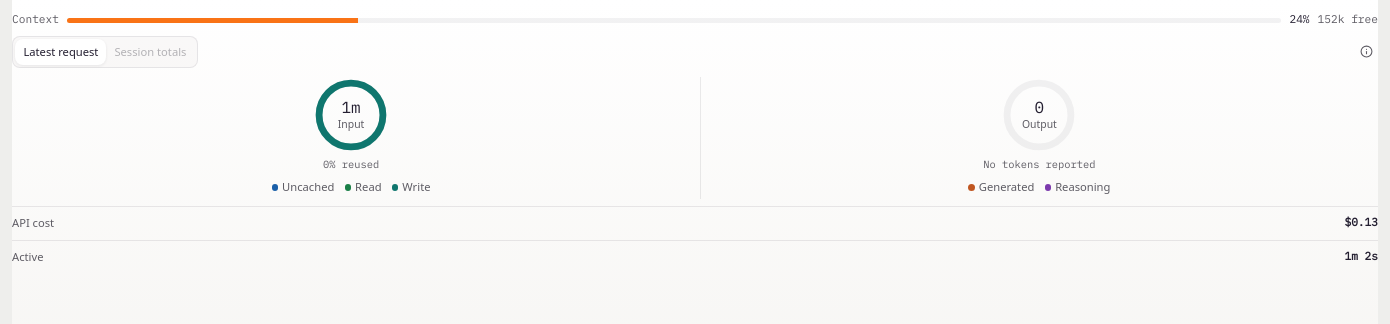
Test: SessionUsageBar › keeps zero and tiny categories reachable without relying on arc hit targets
Expected: the text "No tokens reported" is shown, [983,156,1096,172]
What coordinates should you click on to do the following:
click the button with aria-label "Uncached input: 0 tokens"
I would click on:
 (303, 187)
Its box is [268,175,338,199].
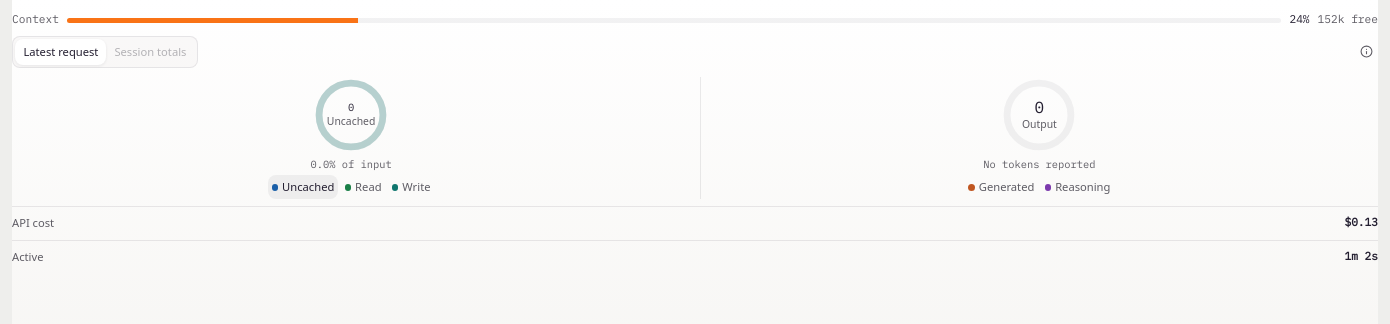
Expected: the element with class "session-usage-ring-center" shows "0", [348,100,354,114]
What coordinates should you click on to do the following:
click the button with aria-label "Cache read:"
I would click on:
 (363, 187)
Its box is [341,175,386,199].
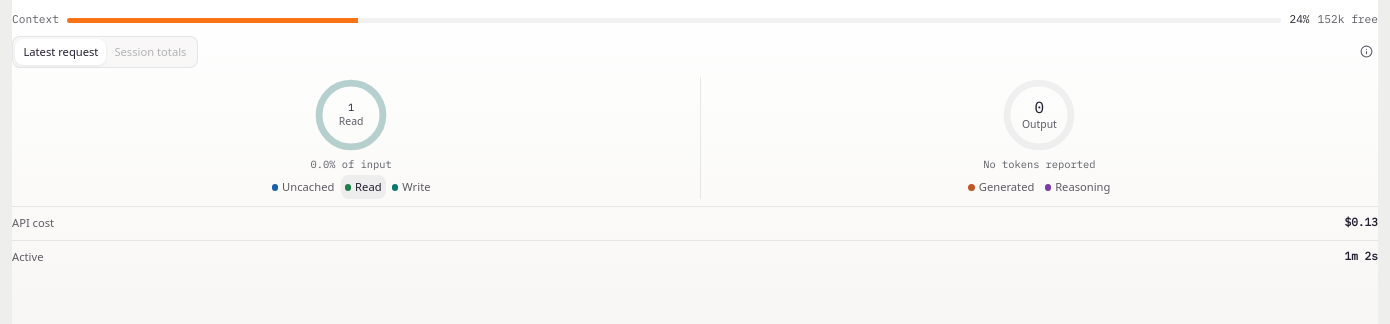
Expected: the element with class "session-usage-ring-center" shows "1", [348,100,354,114]
